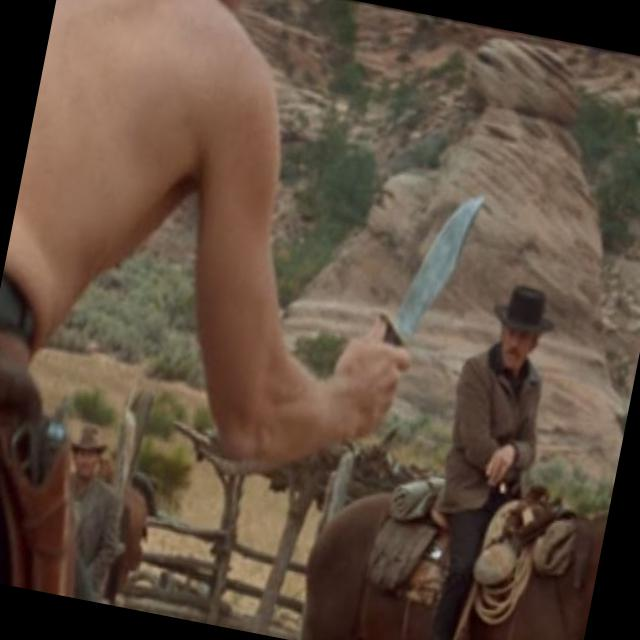knife: (326, 169, 494, 466)
